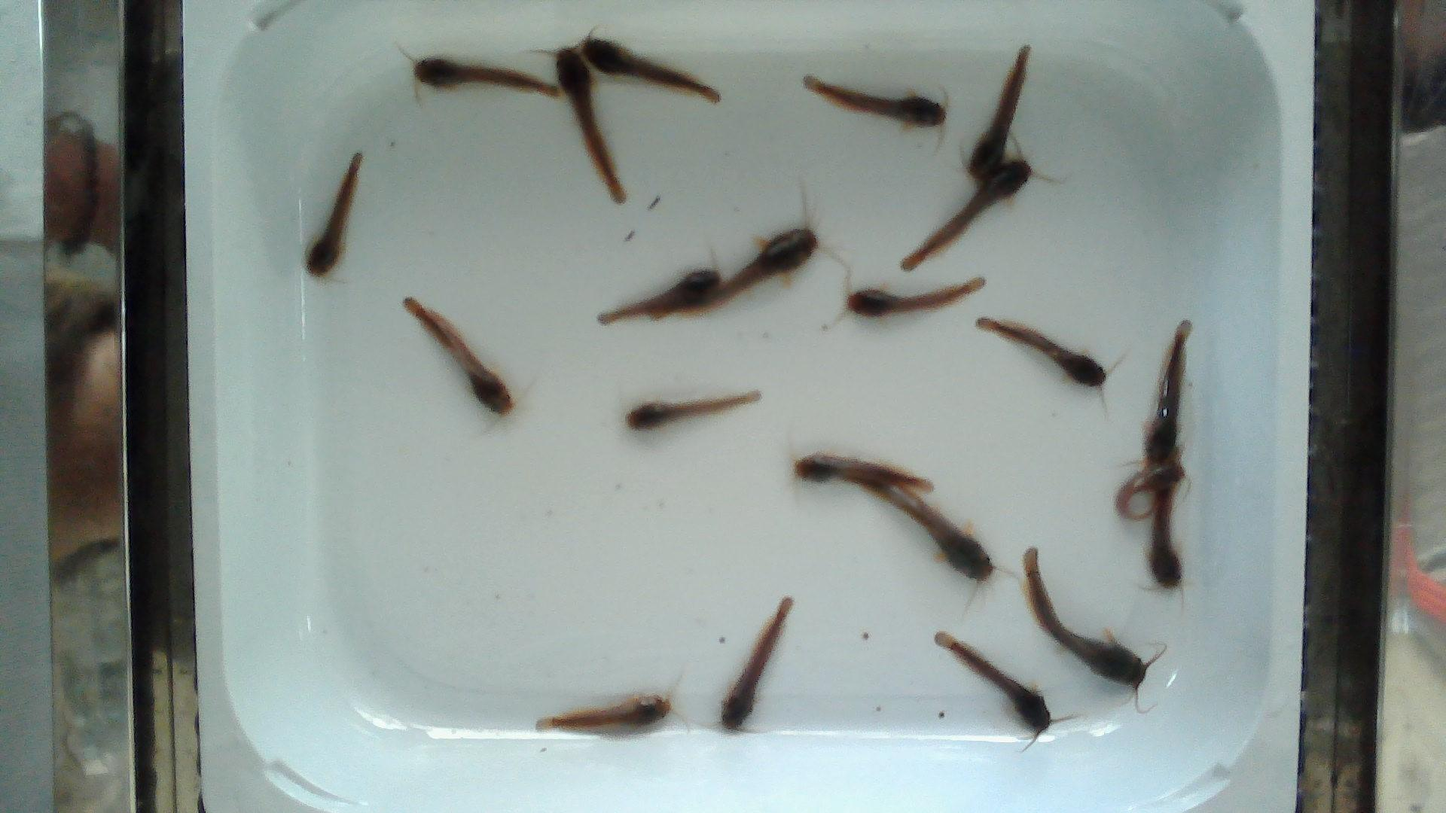lele: (1023, 548, 1149, 686), (832, 475, 994, 582), (651, 227, 818, 324), (901, 160, 1033, 271), (404, 297, 514, 415), (935, 633, 1051, 735), (557, 48, 626, 203), (721, 597, 793, 730), (581, 37, 719, 102), (976, 318, 1106, 387), (964, 47, 1028, 182), (804, 75, 945, 126), (1142, 321, 1190, 465), (306, 154, 362, 276), (598, 270, 721, 325), (794, 452, 935, 494), (414, 57, 558, 96), (847, 277, 985, 317), (627, 391, 761, 430), (538, 696, 670, 729), (1113, 460, 1183, 522), (1150, 479, 1184, 592)
